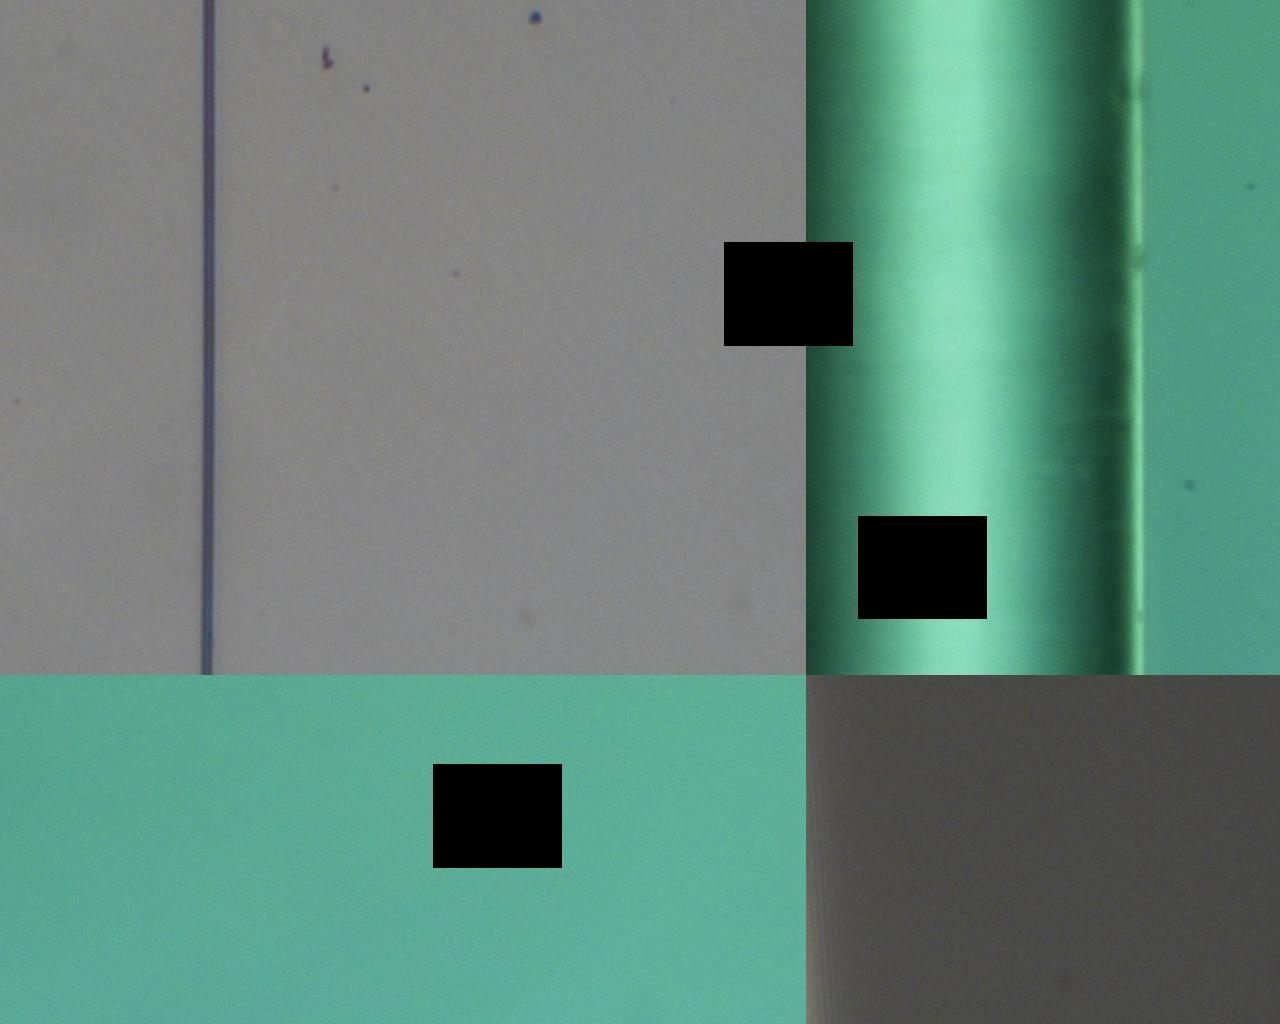fiber: (806, 0, 1141, 675), (194, 0, 215, 675)
